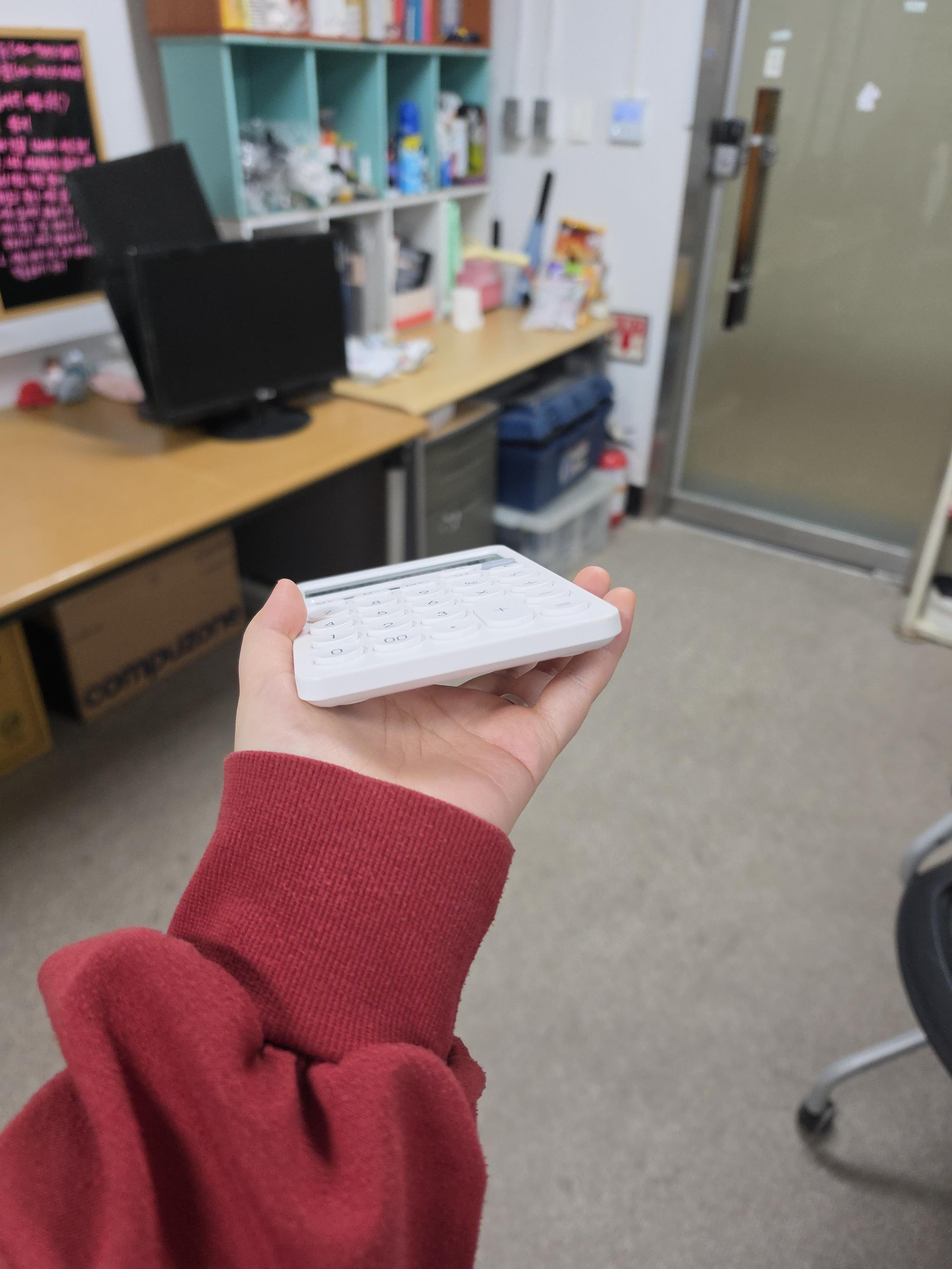calculator: (293, 544, 622, 707)
